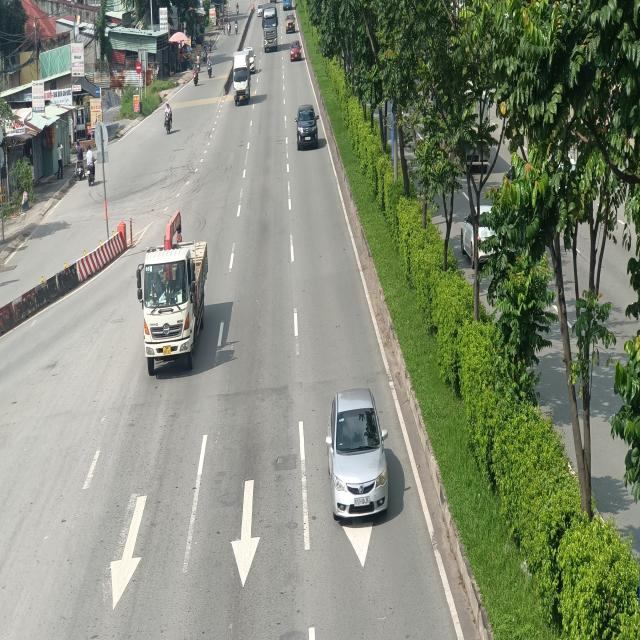car: (325, 388, 390, 520), (295, 104, 319, 150), (290, 40, 302, 61), (285, 13, 296, 33)
truck: (136, 230, 208, 376), (232, 50, 251, 104), (262, 2, 278, 53)
